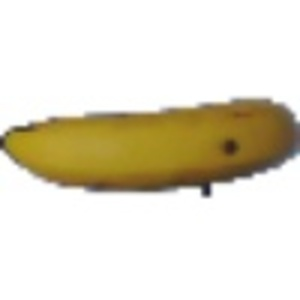banana: (1, 93, 297, 194)
